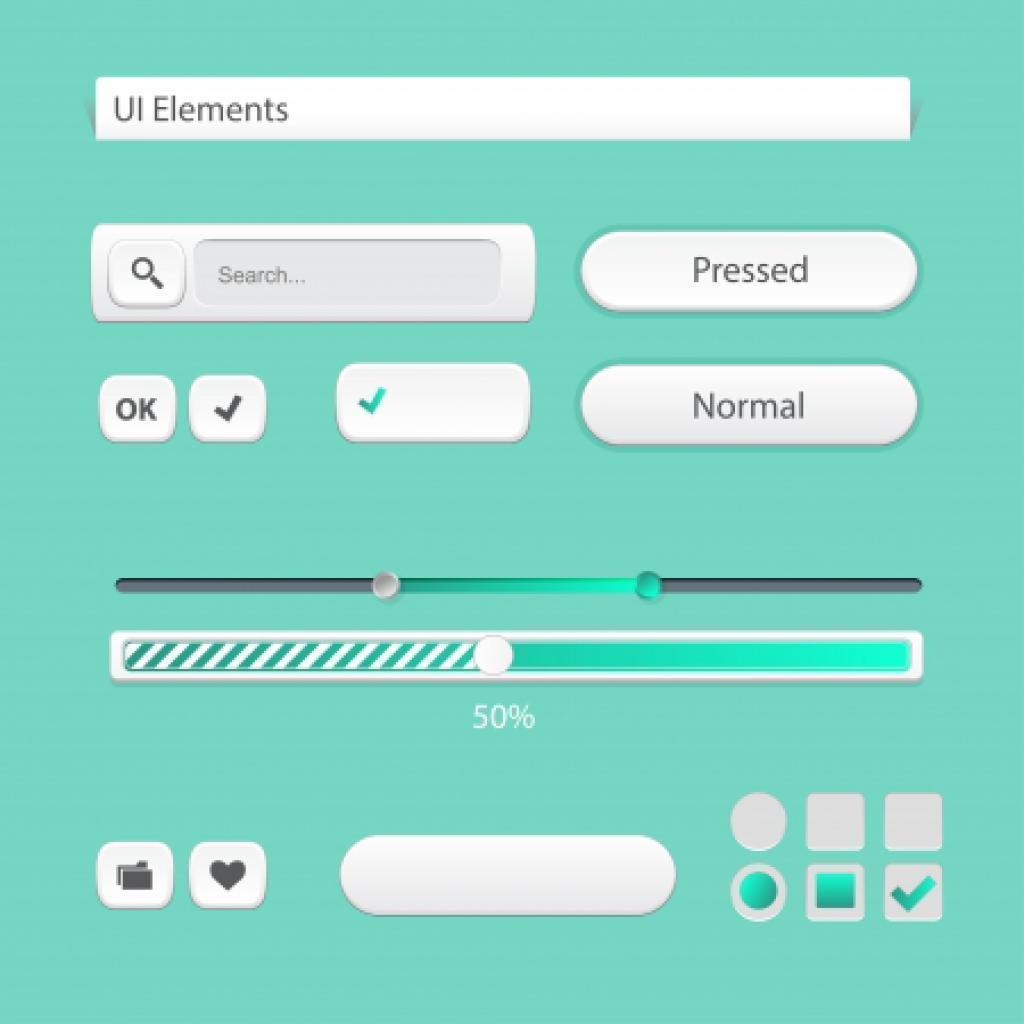button: (581, 226, 924, 313), (344, 836, 675, 912), (583, 366, 910, 441), (101, 368, 175, 448)
checkbox: (180, 368, 280, 456), (803, 860, 867, 922), (804, 791, 866, 851), (882, 863, 941, 923), (883, 792, 942, 852)
icon: (120, 256, 173, 298), (112, 854, 157, 900), (205, 856, 252, 893)
input: (94, 72, 917, 144), (198, 242, 500, 301)
radio: (731, 789, 788, 857), (729, 863, 785, 921)
